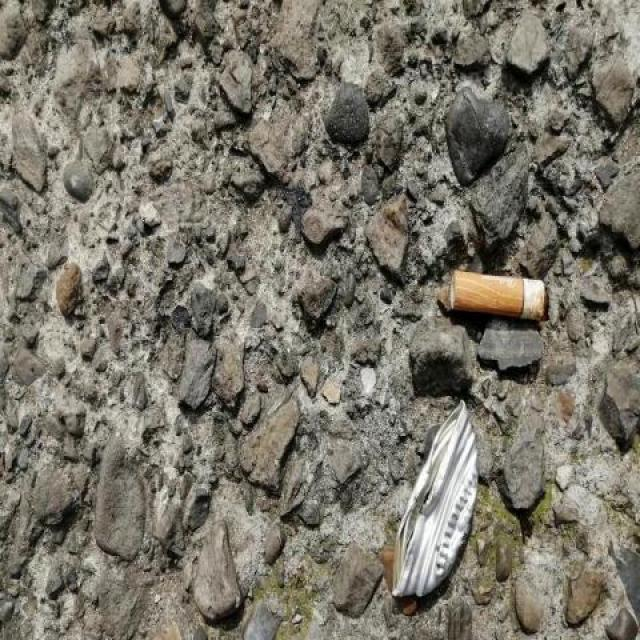non-organic waste: (444, 266, 552, 326)
